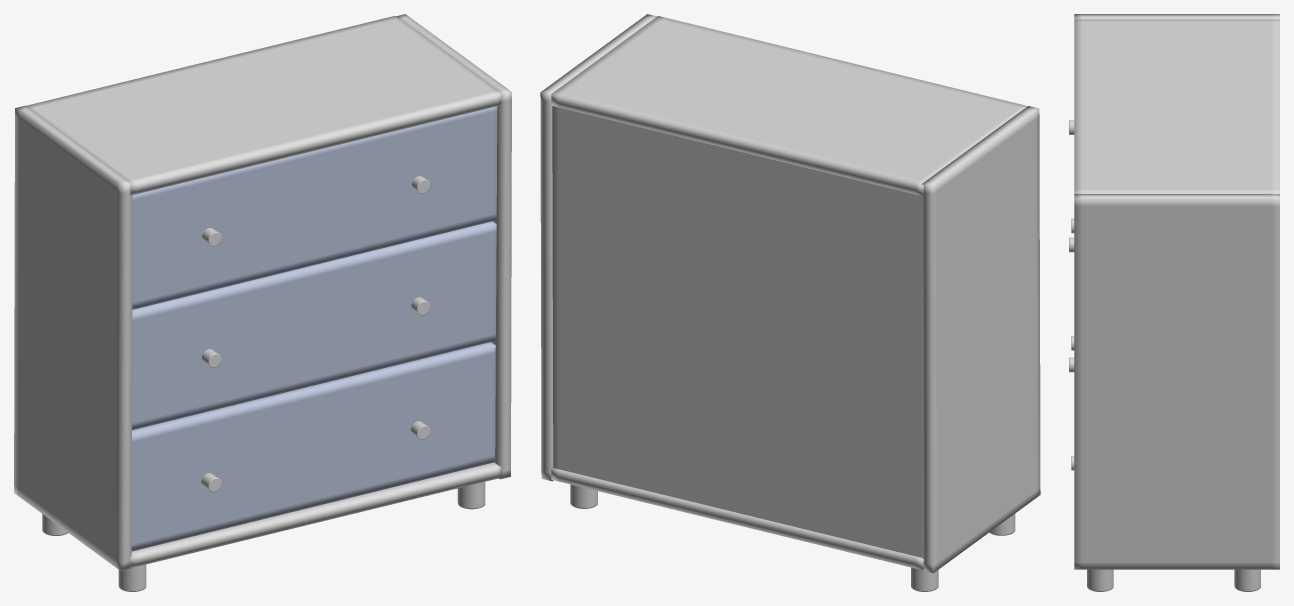
File: Dresser.fbx
The picture shows the model from 3 angles, left to right: view 1: azimuth 30°, elevation 25°; view 2: azimuth 150°, elevation 25°; view 3: azimuth 270°, elevation 25°; orthographic projection. The views are drawn at different scales.
Visible parts, largest first — view 1: RightBase, Drawer3, Drawer2, TopBase, Drawer1, LeftBase, BottomBase, Leg4, Leg1; view 2: Back, RightBase, TopBase, LeftBase, BottomBase; view 3: LeftBase, TopBase, RightBase, Leg3, Leg4.
Boxes of the visible parts, bbox=[...] form: RightBase: bbox=[14, 105, 132, 570]; Drawer3: bbox=[131, 342, 495, 551]; Drawer2: bbox=[132, 221, 496, 430]; TopBase: bbox=[26, 16, 501, 195]; Drawer1: bbox=[132, 106, 497, 309]; LeftBase: bbox=[396, 14, 511, 479]; BottomBase: bbox=[130, 462, 501, 568]; Leg4: bbox=[457, 482, 485, 509]; Leg1: bbox=[118, 564, 146, 591]; Back: bbox=[552, 106, 922, 557]; RightBase: bbox=[921, 106, 1040, 573]; TopBase: bbox=[551, 16, 1027, 196]; LeftBase: bbox=[540, 14, 656, 481]; BottomBase: bbox=[551, 468, 923, 570]; LeftBase: bbox=[1074, 194, 1279, 569]; TopBase: bbox=[1074, 19, 1279, 193]; RightBase: bbox=[1074, 14, 1279, 19]; Leg3: bbox=[1234, 569, 1260, 591]; Leg4: bbox=[1087, 569, 1113, 591].
Bounding box in the file's own units: 1.64 × 1.67 × 0.7951.
